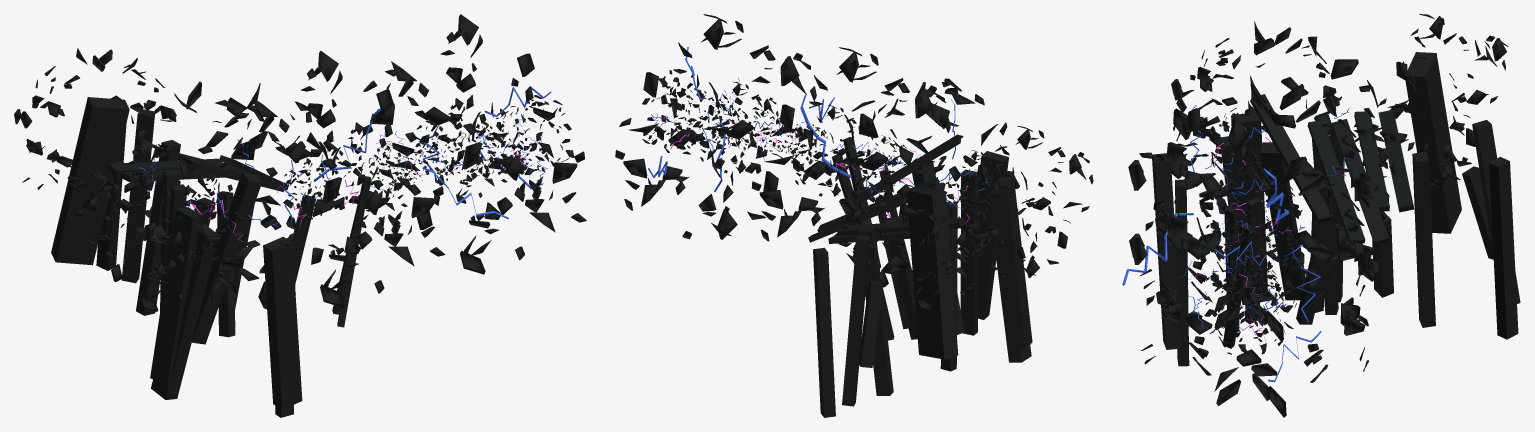
Rendered from Lightning 1.fbx.
3 renders of one model, left to right at view 1: azimuth 30°, elevation 25°; view 2: azimuth 150°, elevation 25°; view 3: azimuth 270°, elevation 25°, orthographic. The views are drawn at different scales.
Visible parts, largest first — view 1: shards__8_, shards__9_, Cube__220_, shards__13_, Cube__223_, Cube__221_, shards__10_, Cube__285_, Cube__222_, shards__14_, Cube__219_, Cube__211_ (+14 smaller); view 2: shards__8_, Cube__220_, shards__9_, shards__13_, Cube__221_, shards__14_, shards__10_, Cube__219_, Cube__218_, Cube__223_, Cube__224_, Cube__211_ (+17 smaller); view 3: shards__8_, shards__9_, shards__13_, Cube__220_, Cube__219_, shards__14_, Cube__211_, Cube__285_, Cube__223_, shards__10_, Cube__281_, Cube__286_ (+24 smaller).
Boxes of the visible parts, x1,y1,x2,y2 form: shards__8_: (362, 14, 586, 274); shards__9_: (223, 51, 445, 307); Cube__220_: (51, 97, 129, 265); shards__13_: (124, 81, 344, 309); Cube__223_: (263, 237, 302, 409); Cube__221_: (150, 206, 203, 387); shards__10_: (75, 136, 226, 311); Cube__285_: (192, 172, 261, 344); Cube__222_: (151, 223, 219, 399); shards__14_: (14, 48, 176, 213); Cube__219_: (121, 109, 154, 283); Cube__211_: (136, 140, 180, 315); shards__8_: (615, 14, 816, 239); Cube__220_: (906, 186, 958, 359); shards__9_: (751, 47, 950, 263); shards__13_: (839, 78, 1026, 296); Cube__221_: (993, 177, 1032, 350); shards__14_: (841, 146, 998, 310); shards__10_: (958, 125, 1093, 278); Cube__219_: (813, 247, 835, 417); Cube__218_: (842, 234, 870, 406); Cube__223_: (977, 151, 1008, 319); Cube__224_: (960, 169, 978, 335); Cube__211_: (858, 227, 893, 395); shards__8_: (1129, 148, 1382, 417); shards__9_: (1128, 75, 1378, 340); shards__13_: (1139, 36, 1396, 275); Cube__220_: (1405, 52, 1461, 233); Cube__219_: (1489, 156, 1518, 339); shards__14_: (1372, 14, 1508, 185); Cube__211_: (1412, 151, 1435, 327); Cube__285_: (1260, 142, 1305, 300); Cube__223_: (1152, 153, 1182, 349); shards__10_: (1171, 21, 1341, 195); Cube__281_: (1307, 120, 1365, 245); Cube__286_: (1250, 94, 1332, 222).
Bounding box in the file's own units: 43889 × 27476 × 30836.
